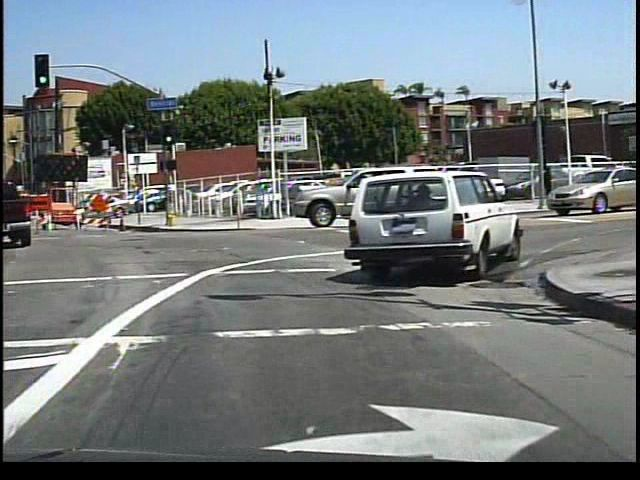person: (537, 163, 556, 206)
